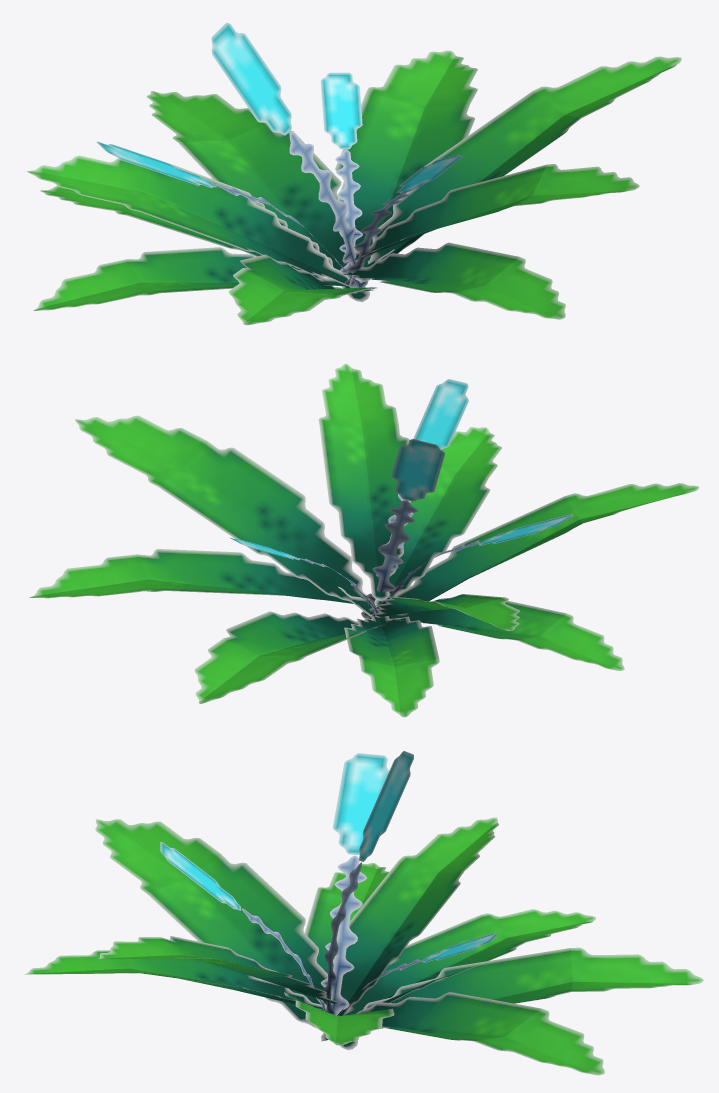
The model's file is yingguangcao.fbx.
3 renders of one model, top to bottom at view 1: azimuth 30°, elevation 25°; view 2: azimuth 150°, elevation 25°; view 3: azimuth 270°, elevation 25°, orthographic. The views are drawn at different scales.
Visible parts, largest first — view 1: 平面.197; view 2: 平面.197; view 3: 平面.197.
Boxes of the visible parts, x1,y1,x2,y2 form: 平面.197: [27, 23, 681, 325]; 平面.197: [29, 363, 699, 717]; 平面.197: [24, 751, 703, 1075].
Size of the model in its own units: 106 by 43.67 by 107.
Materials: 1 (1 with a texture image).
